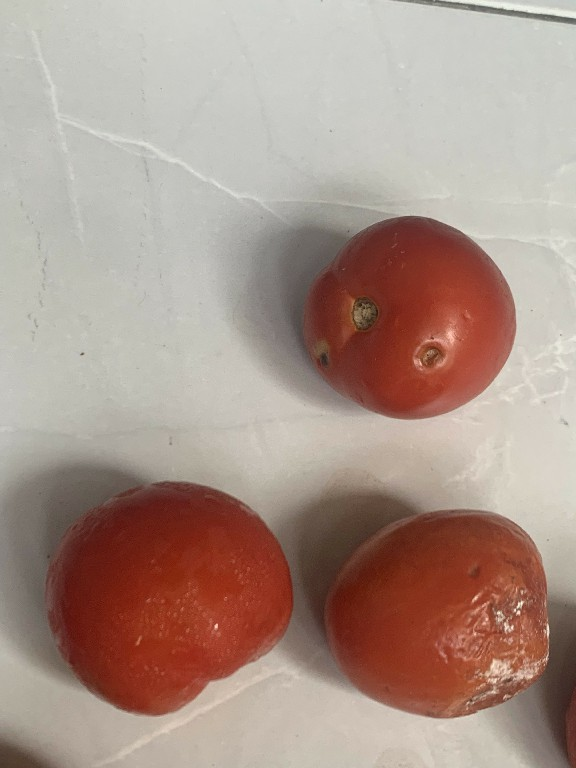NG: (285, 197, 531, 445), (319, 493, 554, 739)
OK: (35, 473, 301, 715)
